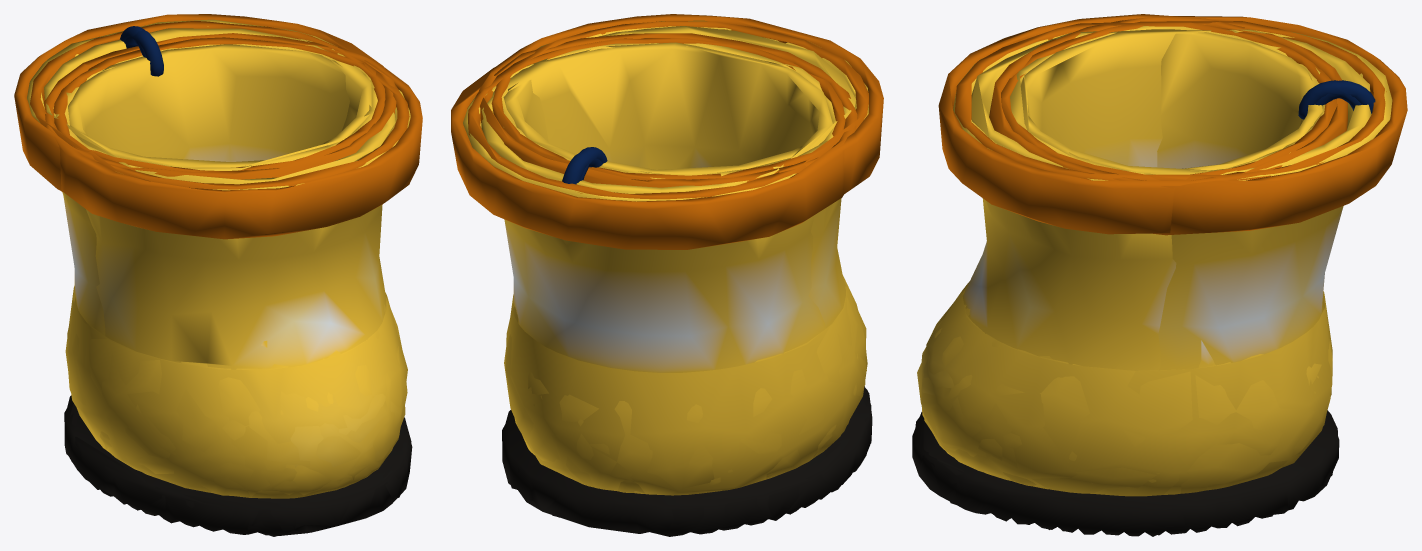
File: ungmua.glb
3 views of the same model, side by side, from view 1: azimuth 30°, elevation 25°; view 2: azimuth 150°, elevation 25°; view 3: azimuth 270°, elevation 25° (orthographic). The views are drawn at different scales.
Parts seen in each view (by area): view 1: Ung_Co__BL, Ung_Co__FR, Vanh_Ung_Co__BL, Ung__BL, Ung__BR, Vanh_Ung_Co__BR, De_Ung__BR, Vanh_Ung_Co__FR, Ung_Co__BR, Ung_Co__FL, Vanh_Ung_Co__FL, De_Ung__BL (+5 smaller); view 2: Ung_Co__BR, Ung_Co__FL, Ung__BR, Vanh_Ung_Co__BR, Ung__BL, De_Ung__BR, Vanh_Ung_Co__BL, Vanh_Ung_Co__FR, Ung_Co__FR, De_Ung__BL, Vanh_Ung_Co__FL, Ung_Co__BL (+4 smaller); view 3: Ung__BL, Ung_Co__BL, Ung_Co__BR, Ung_Co__FR, Ung__BR, Ung_Co__FL, Vanh_Ung_Co__BL, Vanh_Ung_Co__BR, De_Ung__BL, Vanh_Ung_Co__FR, Vanh_Ung_Co__FL, De_Ung__BR (+6 smaller).
Part boxes in pixels (x1,y1,x2,y2): Ung_Co__BL: (55, 40, 410, 369); Ung_Co__FR: (68, 44, 395, 184); Vanh_Ung_Co__BL: (43, 33, 422, 239); Ung__BL: (67, 292, 407, 495); Ung__BR: (65, 285, 407, 497); Vanh_Ung_Co__BR: (14, 14, 396, 192); De_Ung__BR: (64, 395, 411, 535); Vanh_Ung_Co__FR: (53, 37, 409, 189); Ung_Co__BR: (27, 19, 386, 368); Ung_Co__FL: (44, 28, 371, 167); Vanh_Ung_Co__FL: (30, 21, 385, 171); De_Ung__BL: (64, 403, 412, 535); Ung_Co__BR: (463, 43, 845, 372); Ung_Co__FL: (481, 42, 832, 193); Ung__BR: (504, 280, 866, 495); Vanh_Ung_Co__BR: (451, 33, 857, 249); Ung__BL: (505, 275, 867, 495); De_Ung__BR: (502, 392, 872, 536); Vanh_Ung_Co__BL: (479, 14, 883, 194); Vanh_Ung_Co__FR: (491, 21, 868, 180); Ung_Co__FR: (503, 26, 855, 175); De_Ung__BL: (502, 388, 872, 536); Vanh_Ung_Co__FL: (467, 38, 845, 199); Ung_Co__BL: (492, 20, 868, 328); Ung__BL: (917, 281, 1332, 496); Ung_Co__BL: (953, 26, 1325, 370); Ung_Co__BR: (965, 26, 1392, 370); Ung_Co__FR: (971, 29, 1322, 174); Ung__BR: (922, 285, 1332, 494); Ung_Co__FL: (1020, 29, 1371, 174); Vanh_Ung_Co__BL: (938, 14, 1347, 234); Vanh_Ung_Co__BR: (989, 16, 1407, 235); De_Ung__BL: (912, 417, 1339, 536); Vanh_Ung_Co__FR: (955, 22, 1337, 180); Vanh_Ung_Co__FL: (1001, 21, 1386, 180); De_Ung__BR: (913, 410, 1337, 535).
Bounding box in the file's own units: 0.1021 × 0.1054 × 0.1237.
